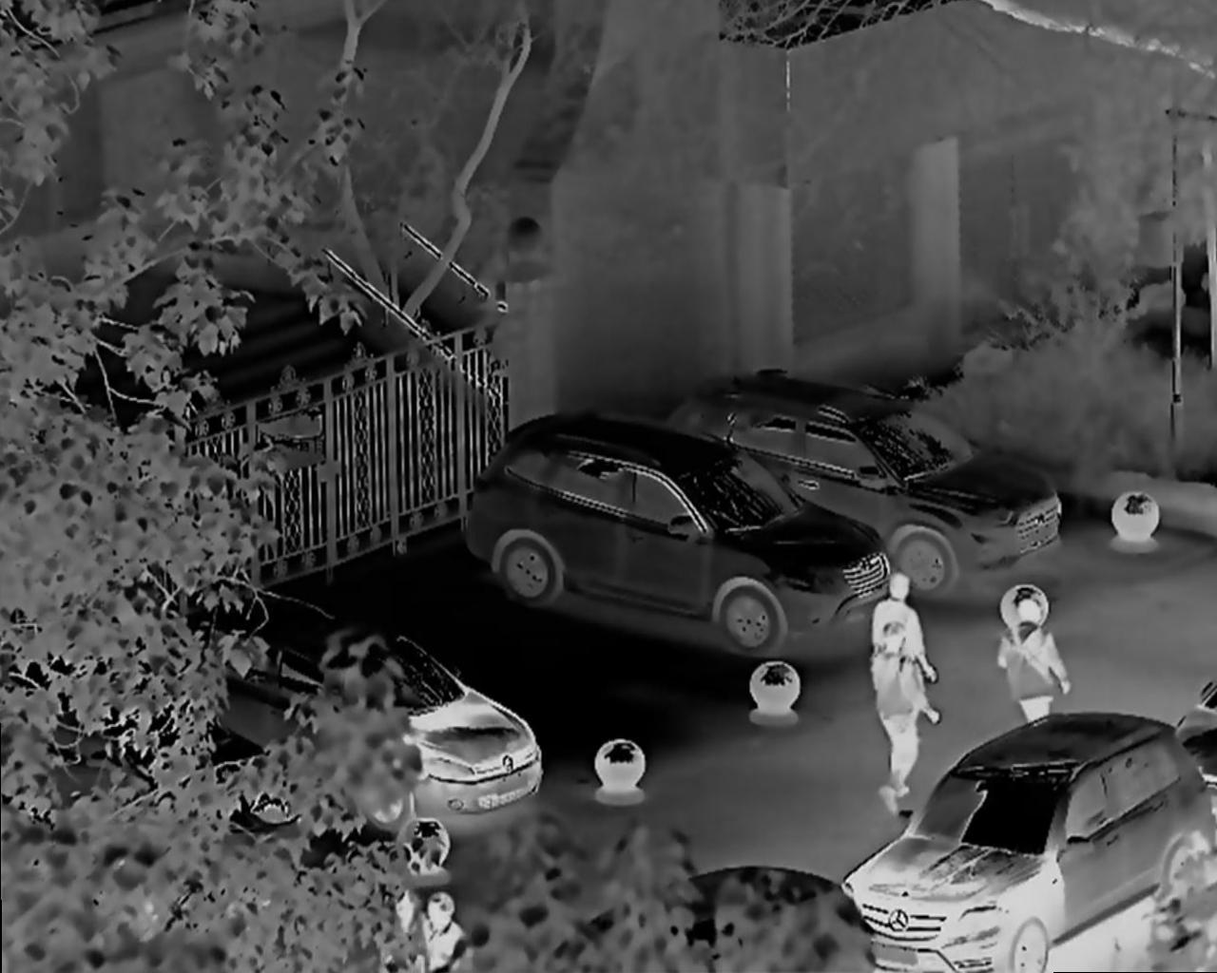person: (866, 620, 940, 815), (995, 598, 1072, 733), (866, 572, 939, 701), (385, 885, 431, 973), (424, 889, 470, 973)
